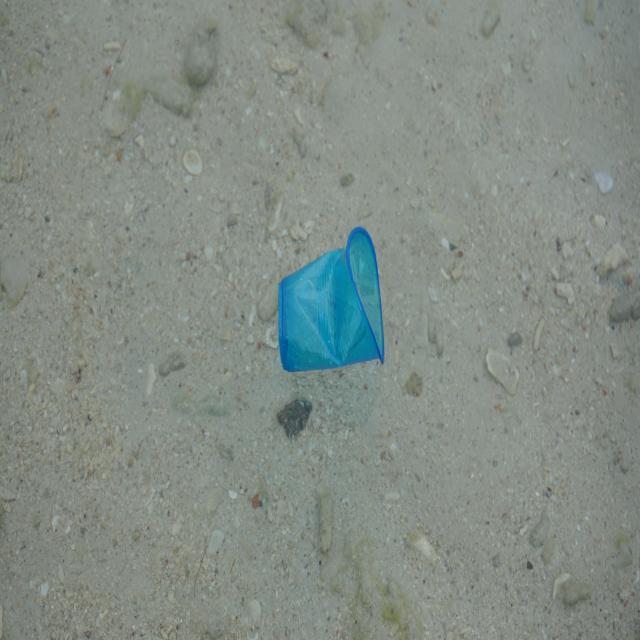Bungkus Minuman: (273, 219, 391, 386)
